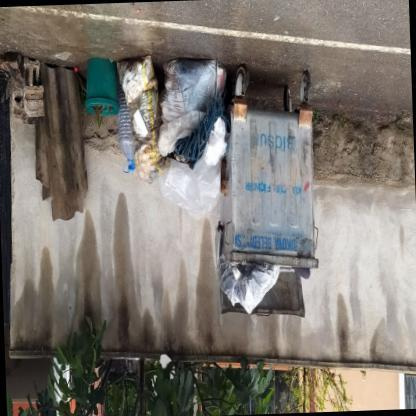Garbage: (148, 56, 218, 217), (116, 53, 172, 198), (218, 258, 278, 316)
